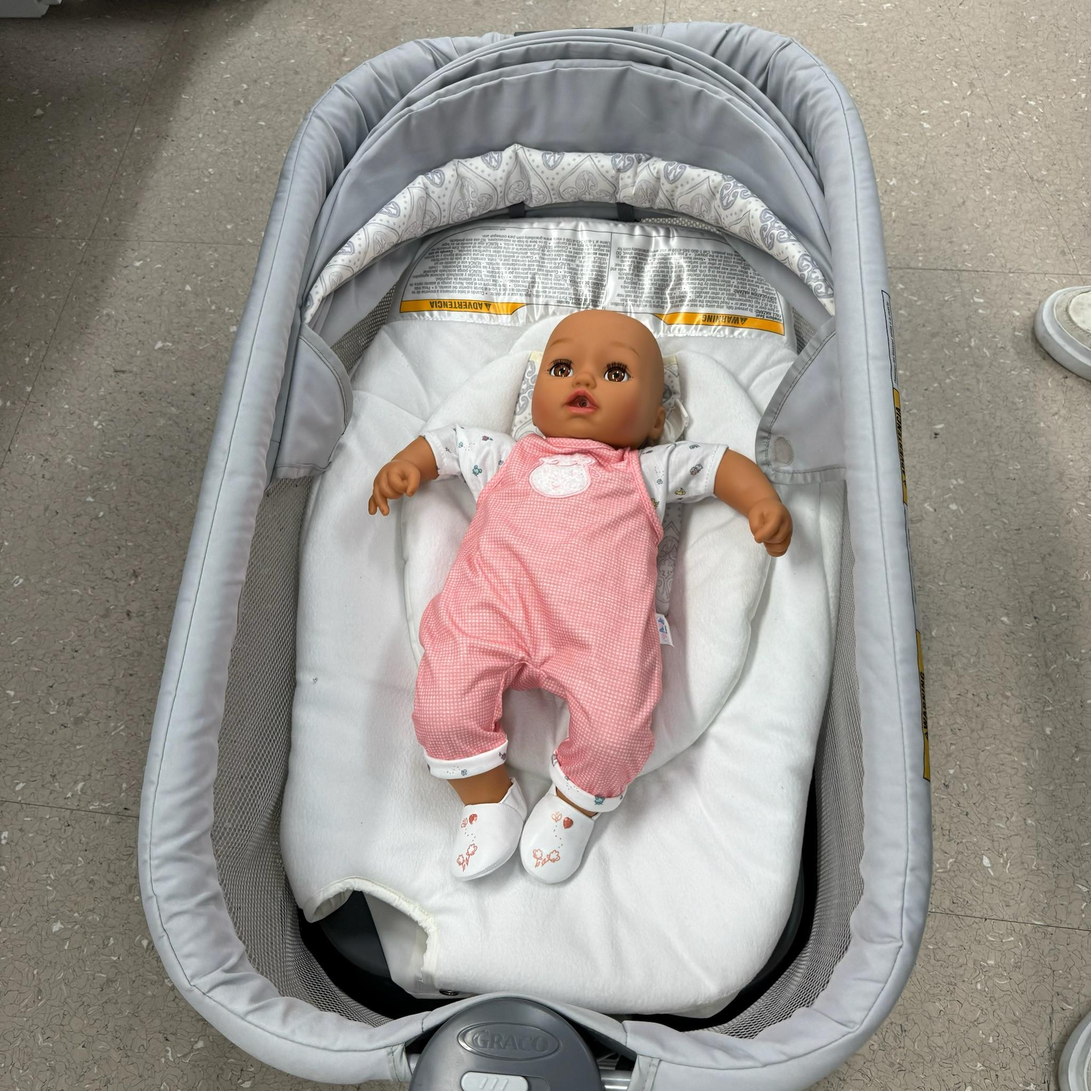baby: (344, 293, 815, 901)
